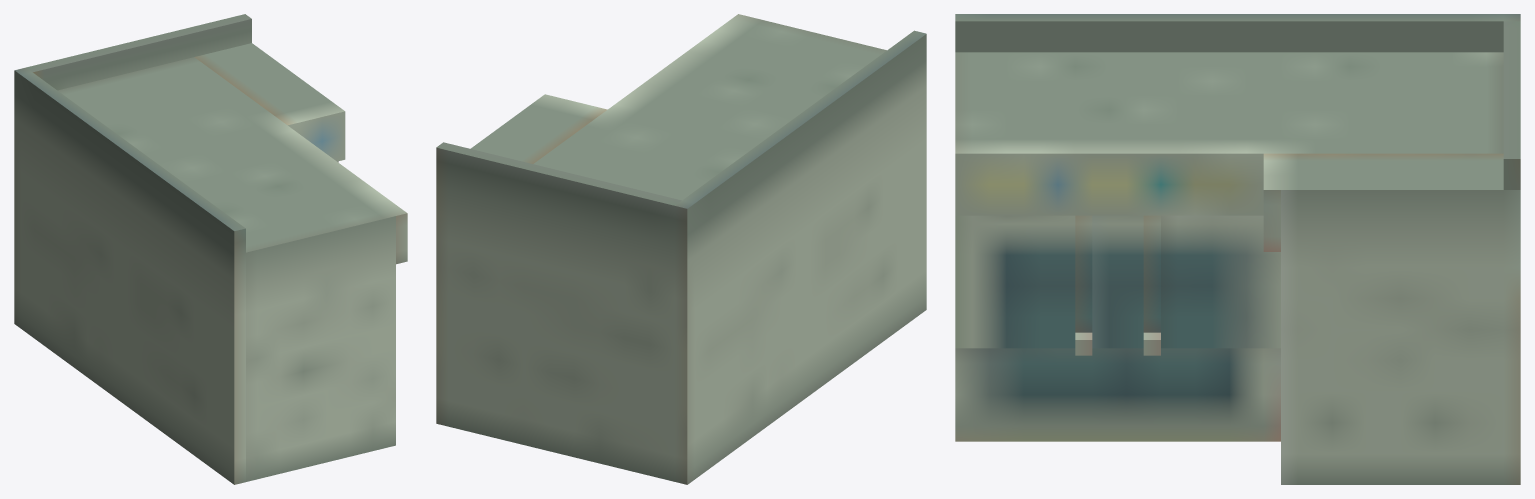
The model's file is CountertopCabinetGreenLShape_00.fbx.
The picture shows the model from 3 angles, left to right: view 1: azimuth 30°, elevation 25°; view 2: azimuth 150°, elevation 25°; view 3: azimuth 270°, elevation 25°; orthographic projection. The views are drawn at different scales.
Visible parts, largest first — view 1: CountertopCabinetGreenLShape_00; view 2: CountertopCabinetGreenLShape_00; view 3: CountertopCabinetGreenLShape_00.
Part boxes in pixels (bbox=[...]): CountertopCabinetGreenLShape_00: bbox=[14, 14, 407, 484]; CountertopCabinetGreenLShape_00: bbox=[436, 14, 926, 484]; CountertopCabinetGreenLShape_00: bbox=[955, 14, 1520, 484].
Size of the model in its own units: 100 by 165 by 105.
Materials: 1 (1 with a texture image).
